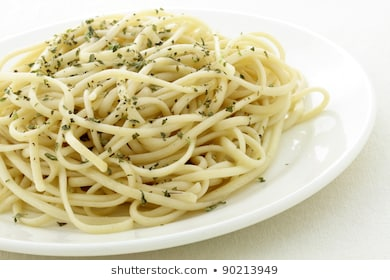plain spaghetti: (30, 49, 261, 185)
